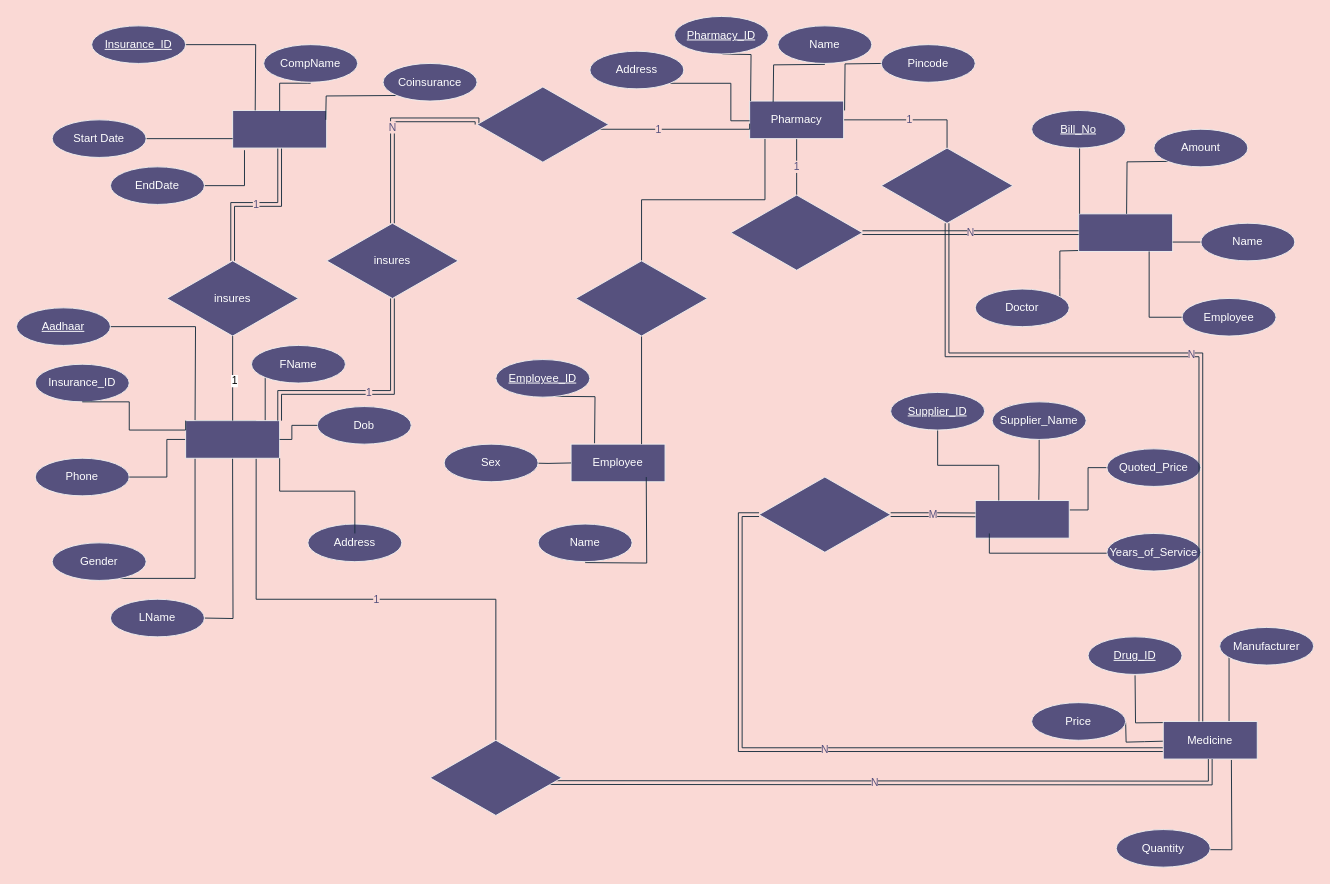
This 1330x884 diagram has some shape labels left out. Here are the shapes that lost their labels. From the top down, the centre of each, then its label:
At point (279, 129): "Insurance".
At point (542, 124): "Buys from".
At point (946, 185): "Sells".
At point (796, 232): "Generates".
At point (1125, 232): "Bill".
At point (641, 298): "Has".
At point (232, 439): "Customer".
At point (824, 514): "Supplies".
At point (1021, 519): "Supplier".
At point (495, 777): "Prescribes".
